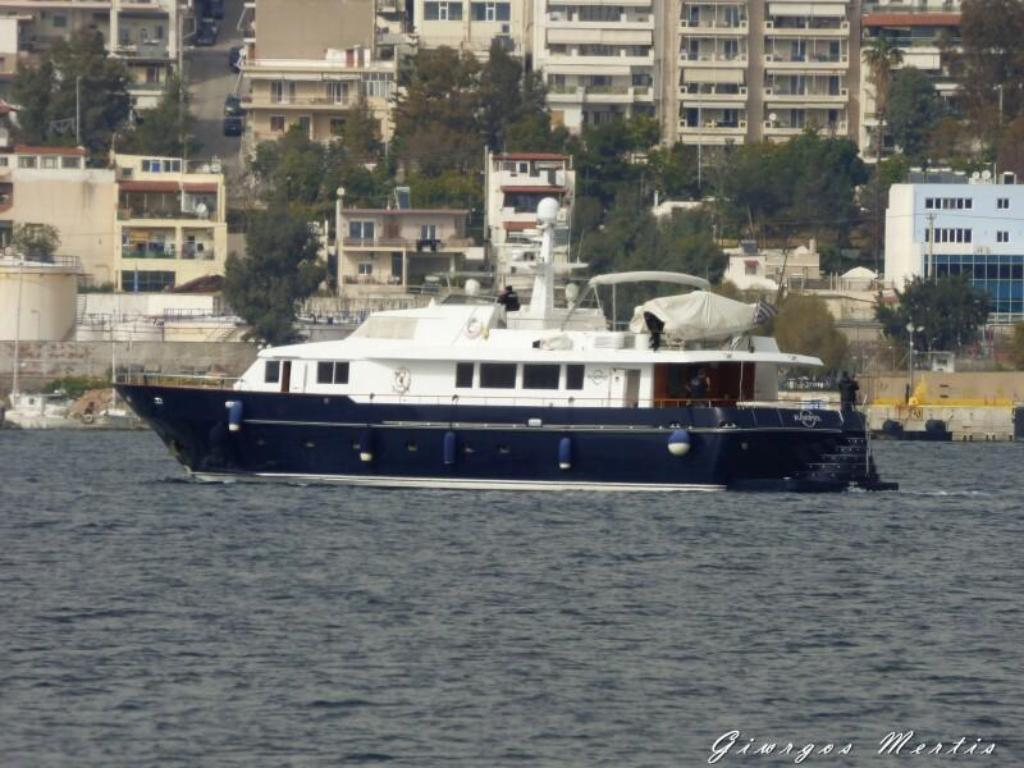PassengerShip: (108, 195, 908, 497)
